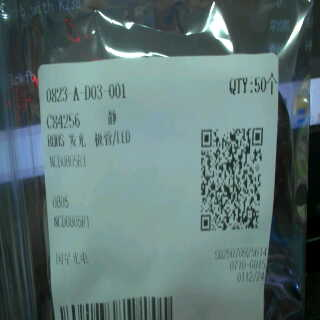LED: (62, 126, 137, 149)
